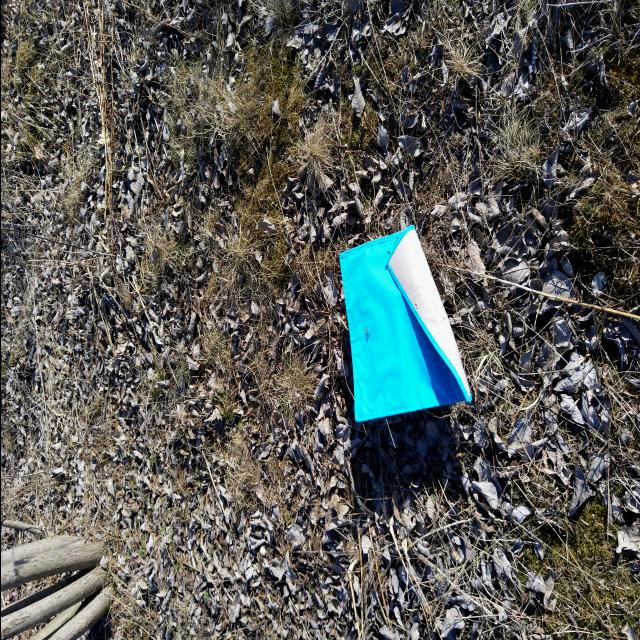Unlabeled litter: (338, 225, 472, 423)
